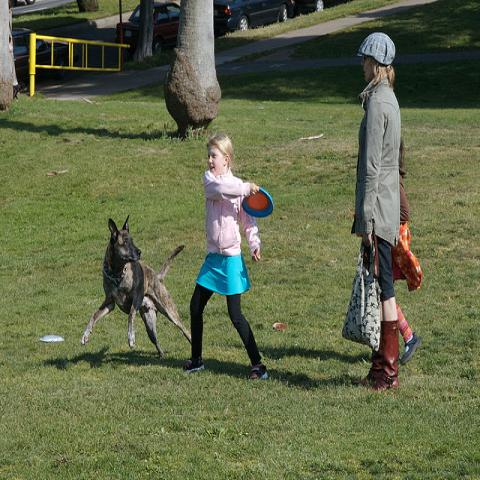car: (12, 26, 80, 83), (116, 2, 180, 58), (214, 0, 294, 34), (287, 0, 354, 21)
